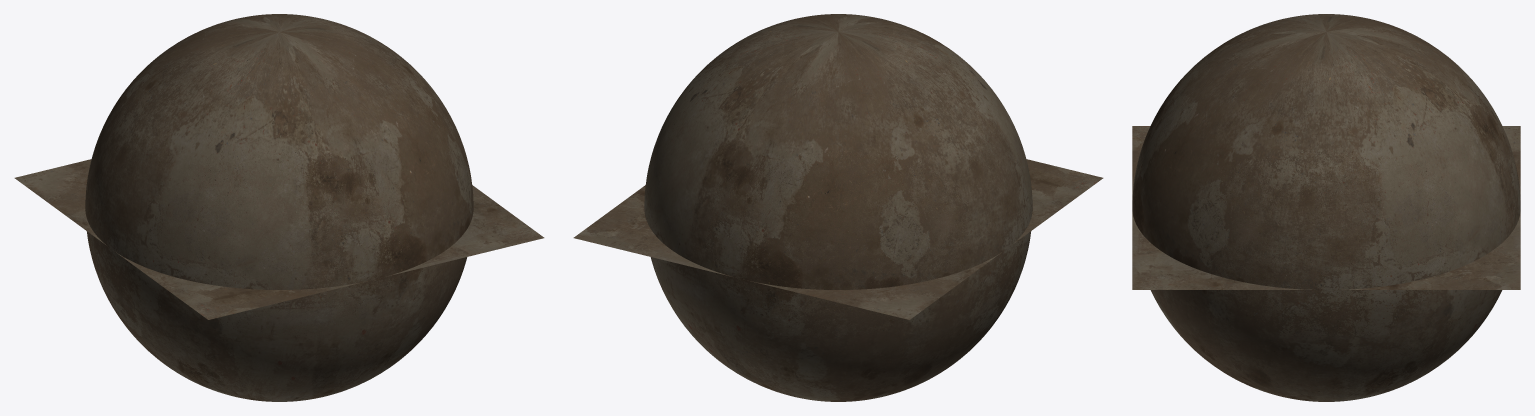
The model's file is concrete_floor_damaged_01_2k.fbx.
The picture shows the model from 3 angles, left to right: view 1: azimuth 30°, elevation 25°; view 2: azimuth 150°, elevation 25°; view 3: azimuth 270°, elevation 25°; orthographic projection.
Parts seen in each view (by area): view 1: Sphere, Plane; view 2: Sphere, Plane; view 3: Sphere, Plane.
Boxes of the visible parts, x1,y1,x2,y2 form: Sphere: (85, 14, 473, 401); Plane: (14, 159, 544, 319); Sphere: (644, 14, 1032, 401); Plane: (573, 159, 1103, 319); Sphere: (1132, 14, 1520, 401); Plane: (1132, 126, 1520, 289).
Size of the model in its own units: 500 by 500 by 500.
Materials: 1 (1 with a texture image).
